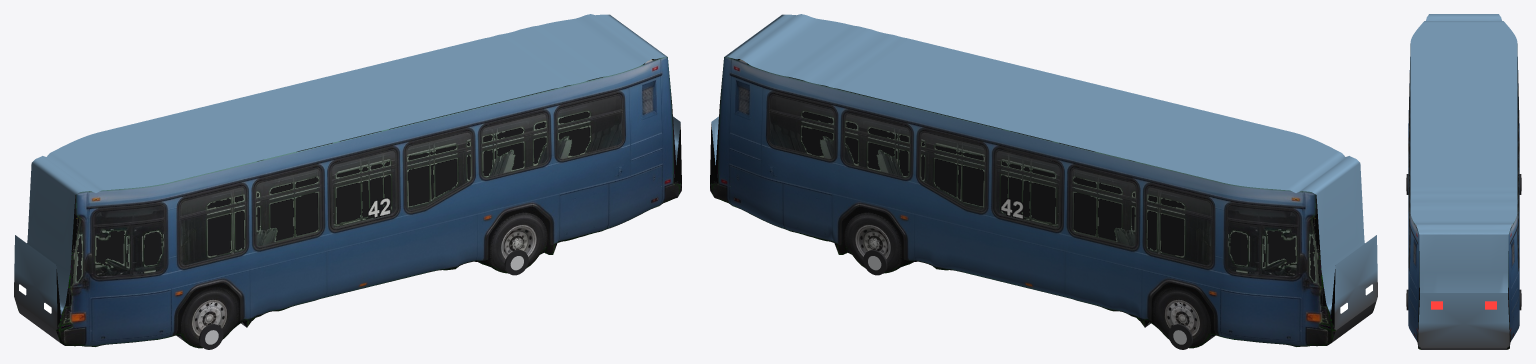
Rendered from bus.glb.
3 views of the same model, side by side, from view 1: azimuth 30°, elevation 25°; view 2: azimuth 150°, elevation 25°; view 3: azimuth 270°, elevation 25° (orthographic). The views are drawn at different scales.
Parts seen in each view (by area): view 1: bus; view 2: bus; view 3: bus.
Part boxes in pixels (bbox=[...]): bus: bbox=[14, 14, 681, 349]; bus: bbox=[710, 14, 1377, 349]; bus: bbox=[1406, 14, 1521, 349].
Bounding box in the file's own units: 8.83 × 2.42 × 1.84.
Materials: 8 (2 with a texture image).
